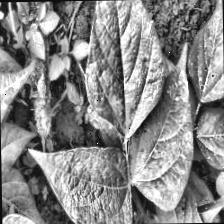Bean Rust: (85, 0, 163, 141), (126, 49, 192, 206), (187, 0, 224, 104), (194, 107, 224, 172)
